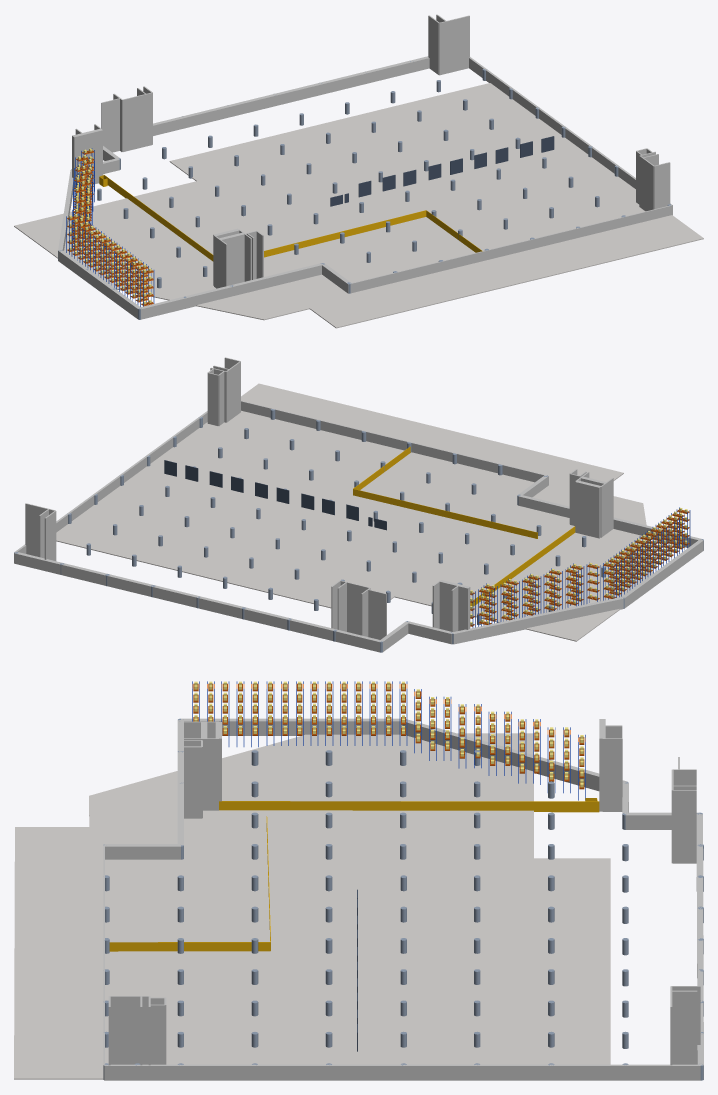
Rendered from model_4abed255c162.glb.
3 views of the same model, one above another, from view 1: azimuth 30°, elevation 25°; view 2: azimuth 150°, elevation 25°; view 3: azimuth 270°, elevation 25° (orthographic). The views are drawn at different scales.
Visible parts, largest first — view 1: slab_slab_xxvx0g9ljft46gpm, wall_wall_7x3h8y2ortcdvjfo, wall_wall_b41vys8neuv71vqe, slab_slab_bagk98th9jquckai, wall_wall_ii13ab8qb0o9djpj, wall_wall_bppzdj1x1etlp74j, wall_wall_u421dg05b26i8vx2, wall_wall_g88pzelfzvs28a3u, wall_wall_as0ygcgg5g619r7v, fence_fence_8nsk2pp6xthi3ruv, wall_wall_5auwp9zyu9wsjvzn, wall_wall_sa9cmmcejemsmp8x (+7 smaller); view 2: slab_slab_xxvx0g9ljft46gpm, wall_wall_7x3h8y2ortcdvjfo, wall_wall_b41vys8neuv71vqe, wall_wall_2dun8kaa6uneyo8i, slab_slab_bagk98th9jquckai, wall_wall_bppzdj1x1etlp74j, wall_wall_e9pr9x6b8qfkcbit, fence_fence_8nsk2pp6xthi3ruv, wall_wall_ii13ab8qb0o9djpj, wall_wall_as0ygcgg5g619r7v, wall_wall_sa9cmmcejemsmp8x, wall_wall_g88pzelfzvs28a3u (+9 smaller); view 3: slab_slab_xxvx0g9ljft46gpm, wall_wall_bppzdj1x1etlp74j, fence_fence_2aob6t5hgwx5vm16, wall_wall_2dun8kaa6uneyo8i, wall_wall_as0ygcgg5g619r7v, wall_wall_qipkimcq6mls22sz, wall_wall_owyp2sh1m8maaq13, wall_wall_96diqm3pwydd2xw6, wall_wall_ks6w06r3cb2rs3u5, fence_fence_rns46rojncq3wznv, wall_wall_7x3h8y2ortcdvjfo, wall_wall_yli7gxpv7v65mxm8 (+7 smaller).
Boxes of the visible parts, x1,y1,x2,y2 form: slab_slab_xxvx0g9ljft46gpm: (14,83,692,328); wall_wall_7x3h8y2ortcdvjfo: (153,56,429,135); wall_wall_b41vys8neuv71vqe: (350,205,672,293); slab_slab_bagk98th9jquckai: (17,199,283,318); wall_wall_ii13ab8qb0o9djpj: (140,263,322,319); wall_wall_bppzdj1x1etlp74j: (469,57,635,188); wall_wall_u421dg05b26i8vx2: (122,94,146,151); wall_wall_g88pzelfzvs28a3u: (446,15,469,73); wall_wall_as0ygcgg5g619r7v: (58,250,140,318); fence_fence_8nsk2pp6xthi3ruv: (264,210,426,257); wall_wall_5auwp9zyu9wsjvzn: (219,232,244,285); wall_wall_sa9cmmcejemsmp8x: (101,98,119,152); slab_slab_xxvx0g9ljft46gpm: (56,391,653,641); wall_wall_7x3h8y2ortcdvjfo: (44,559,380,652); wall_wall_b41vys8neuv71vqe: (241,400,546,482); wall_wall_2dun8kaa6uneyo8i: (452,597,623,644); slab_slab_bagk98th9jquckai: (470,503,641,638); wall_wall_bppzdj1x1etlp74j: (56,411,207,532); wall_wall_e9pr9x6b8qfkcbit: (575,480,601,538); fence_fence_8nsk2pp6xthi3ruv: (353,489,537,538); wall_wall_ii13ab8qb0o9djpj: (518,495,701,547); wall_wall_as0ygcgg5g619r7v: (621,539,703,608); wall_wall_sa9cmmcejemsmp8x: (368,589,386,639); wall_wall_g88pzelfzvs28a3u: (25,503,48,556); slab_slab_xxvx0g9ljft46gpm: (14,733,610,1079); wall_wall_bppzdj1x1etlp74j: (149,1064,671,1080); fence_fence_2aob6t5hgwx5vm16: (219,801,599,812); wall_wall_2dun8kaa6uneyo8i: (402,719,626,791); wall_wall_as0ygcgg5g619r7v: (181,718,402,735); wall_wall_qipkimcq6mls22sz: (110,996,140,1064); wall_wall_owyp2sh1m8maaq13: (671,990,697,1064); wall_wall_96diqm3pwydd2xw6: (672,790,696,863); wall_wall_ks6w06r3cb2rs3u5: (602,738,622,811); fence_fence_rns46rojncq3wznv: (109,942,270,951); wall_wall_7x3h8y2ortcdvjfo: (696,814,703,1044); wall_wall_yli7gxpv7v65mxm8: (184,746,201,818).
Size of the model in its own units: 128 by 12.5 by 107.
